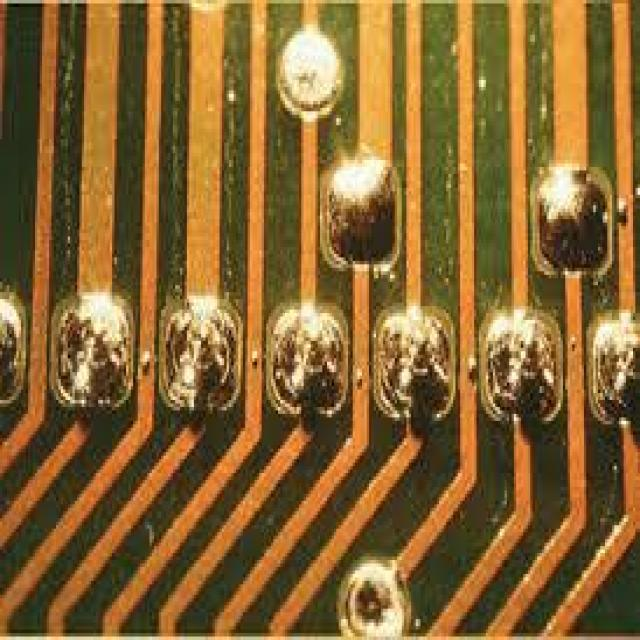redundant: (323, 149, 401, 271), (531, 168, 613, 275)
